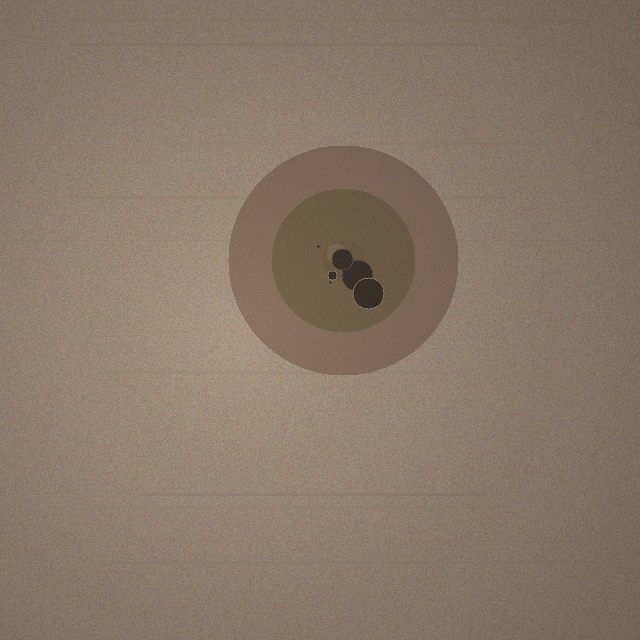shrinkage: (228, 145, 458, 375)
